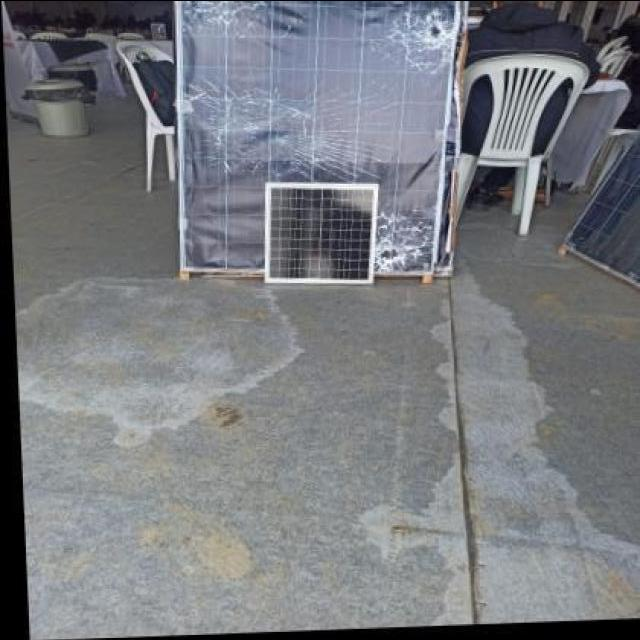cracked: (180, 2, 456, 284)
